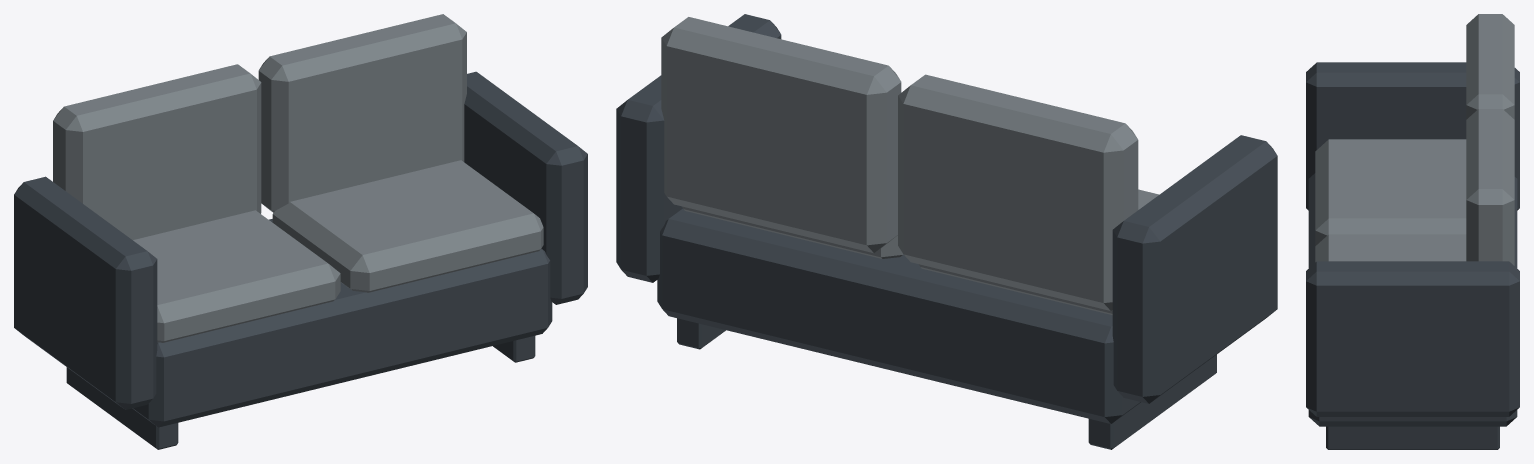
File: TwoSeatSofa.fbx
3 views of the same model, side by side, from view 1: azimuth 30°, elevation 25°; view 2: azimuth 150°, elevation 25°; view 3: azimuth 270°, elevation 25° (orthographic). The views are drawn at different scales.
Visible parts, largest first — view 1: TwoSeatSofa; view 2: TwoSeatSofa; view 3: TwoSeatSofa.
Part boxes in pixels (x1=…): TwoSeatSofa: x1=14, y1=14, x2=587, y2=449; TwoSeatSofa: x1=616, y1=14, x2=1277, y2=449; TwoSeatSofa: x1=1306, y1=14, x2=1519, y2=449.
Bounding box in the file's own units: 193 × 108 × 80.
Materials: 1 (1 with a texture image).
